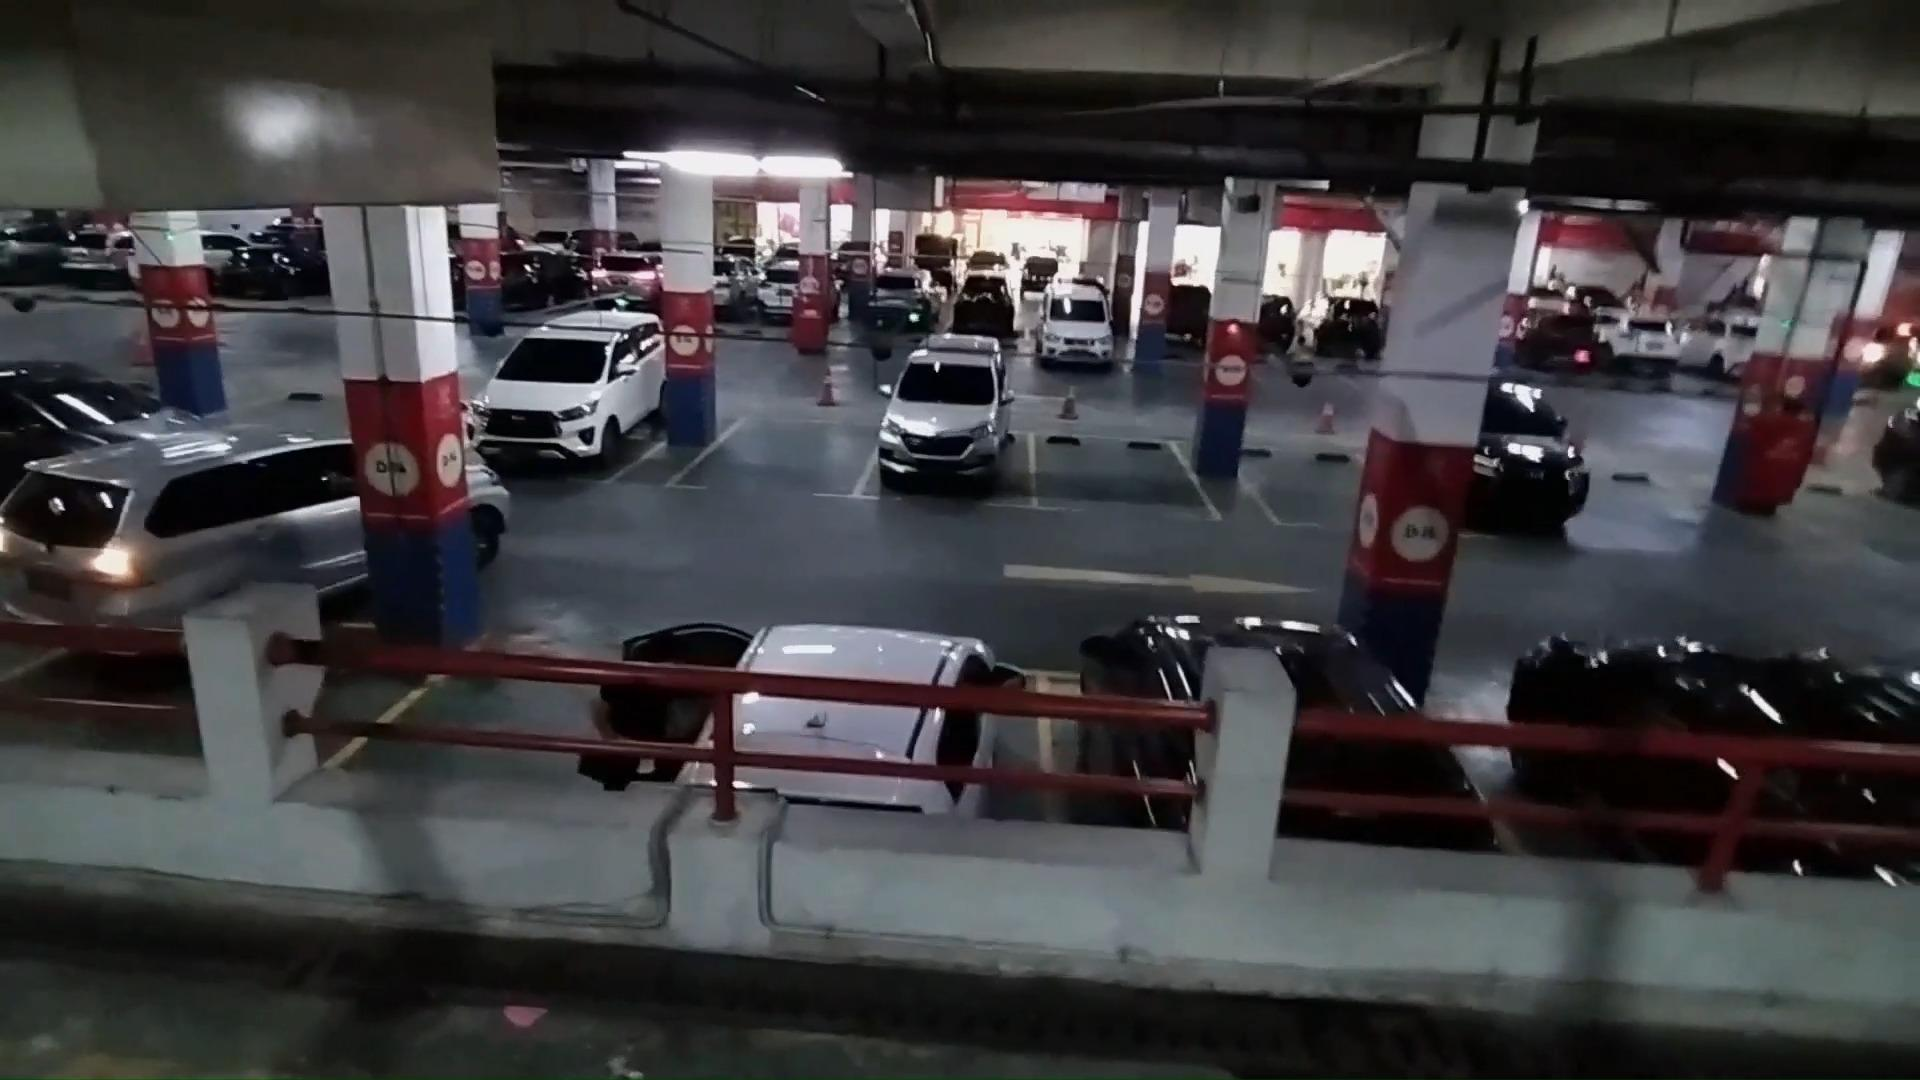empty: (671, 397, 870, 501), (1025, 421, 1209, 519)
occupied: (458, 330, 665, 489), (870, 368, 1034, 507)
